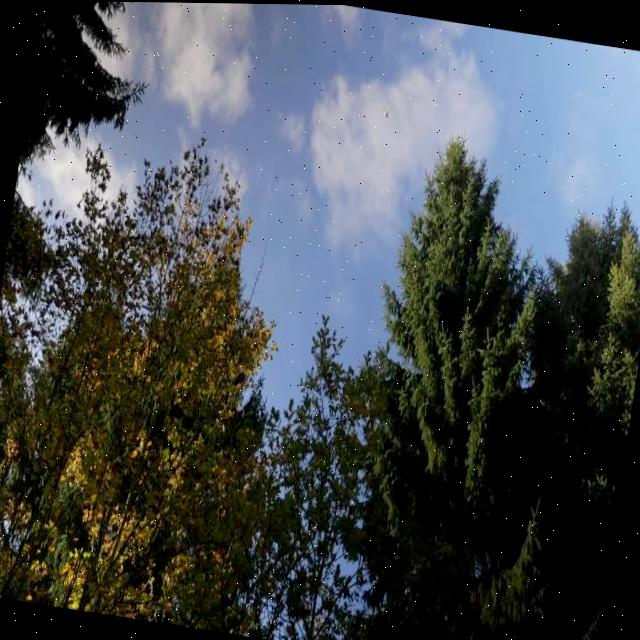drone: (380, 103, 392, 119)
